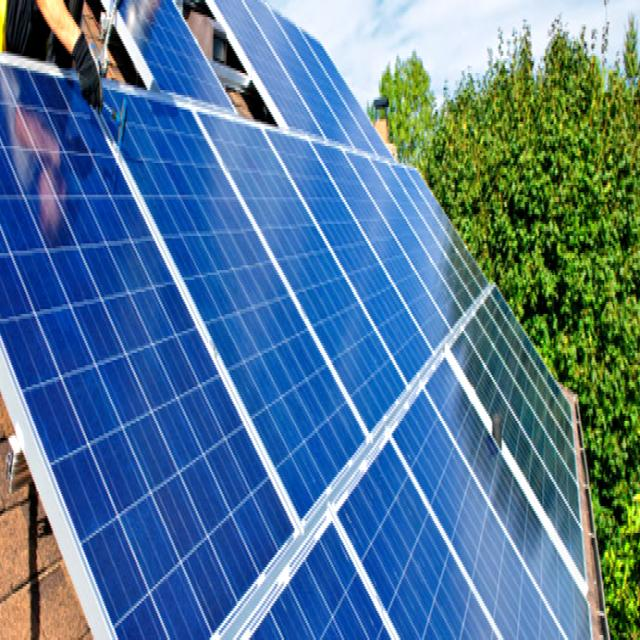crack: (0, 65, 500, 586), (201, 192, 640, 640), (210, 0, 412, 172), (106, 2, 236, 110)
